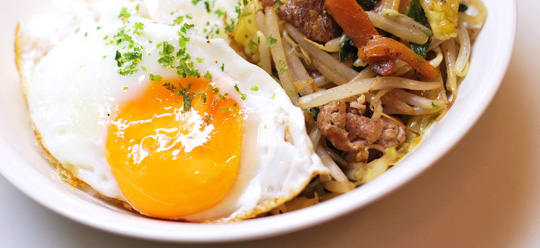fried egg: (31, 3, 267, 218)
